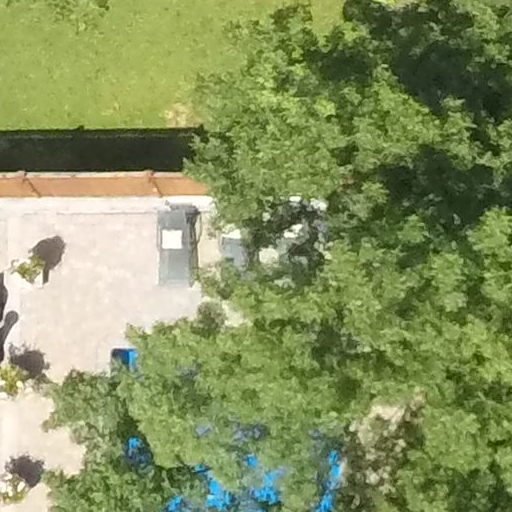chair: (143, 189, 215, 295)
